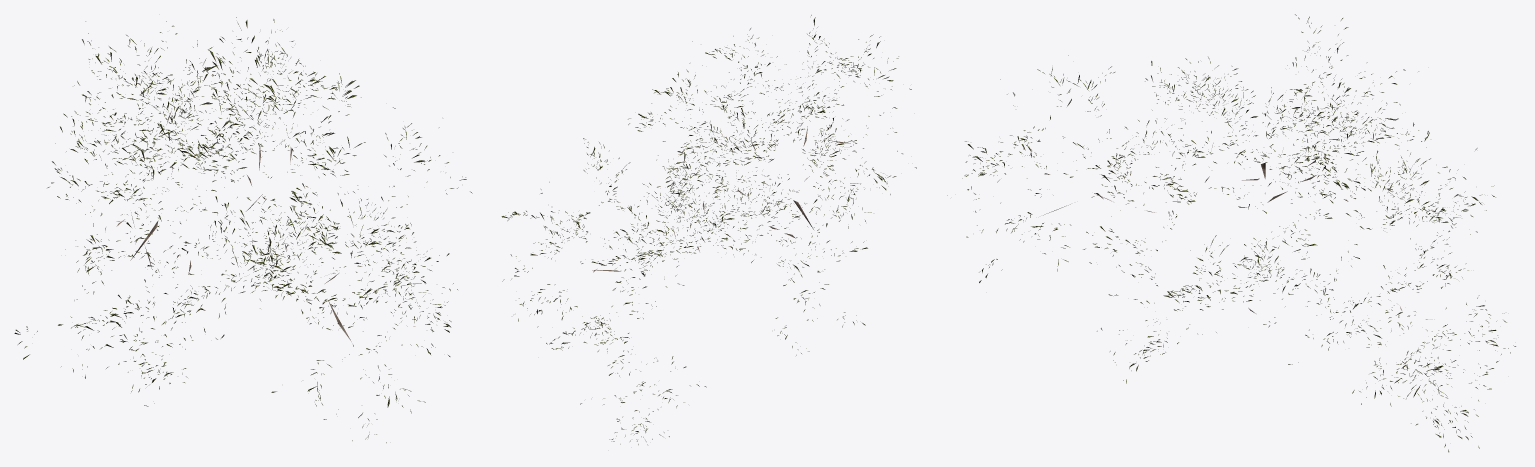
Rendered from tree_light.glb.
3 views of the same model, side by side, from view 1: azimuth 30°, elevation 25°; view 2: azimuth 150°, elevation 25°; view 3: azimuth 270°, elevation 25° (orthographic). The views are drawn at different scales.
Visible parts, largest first — view 1: tree_small; view 2: tree_small; view 3: tree_small.
Part boxes in pixels (left/top/right/bottom): tree_small: left=14, top=17, right=472, bottom=442; tree_small: left=501, top=15, right=916, bottom=444; tree_small: left=947, top=14, right=1515, bottom=452.
Size of the model in its own units: 57.01 by 59.67 by 84.03.
Materials: 3 (3 with a texture image).
